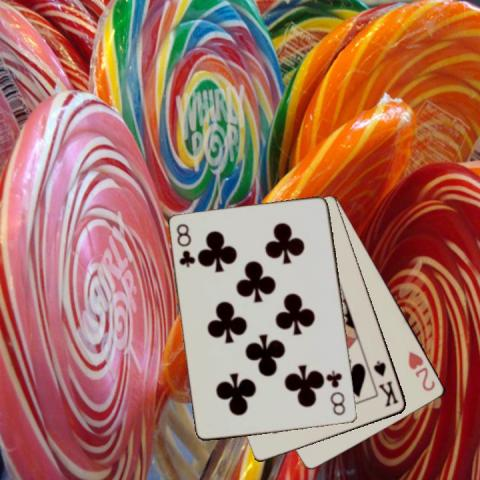2h: (406, 348, 438, 393)
8c: (174, 221, 197, 269), (326, 368, 348, 418)
Ks: (371, 357, 400, 409)
